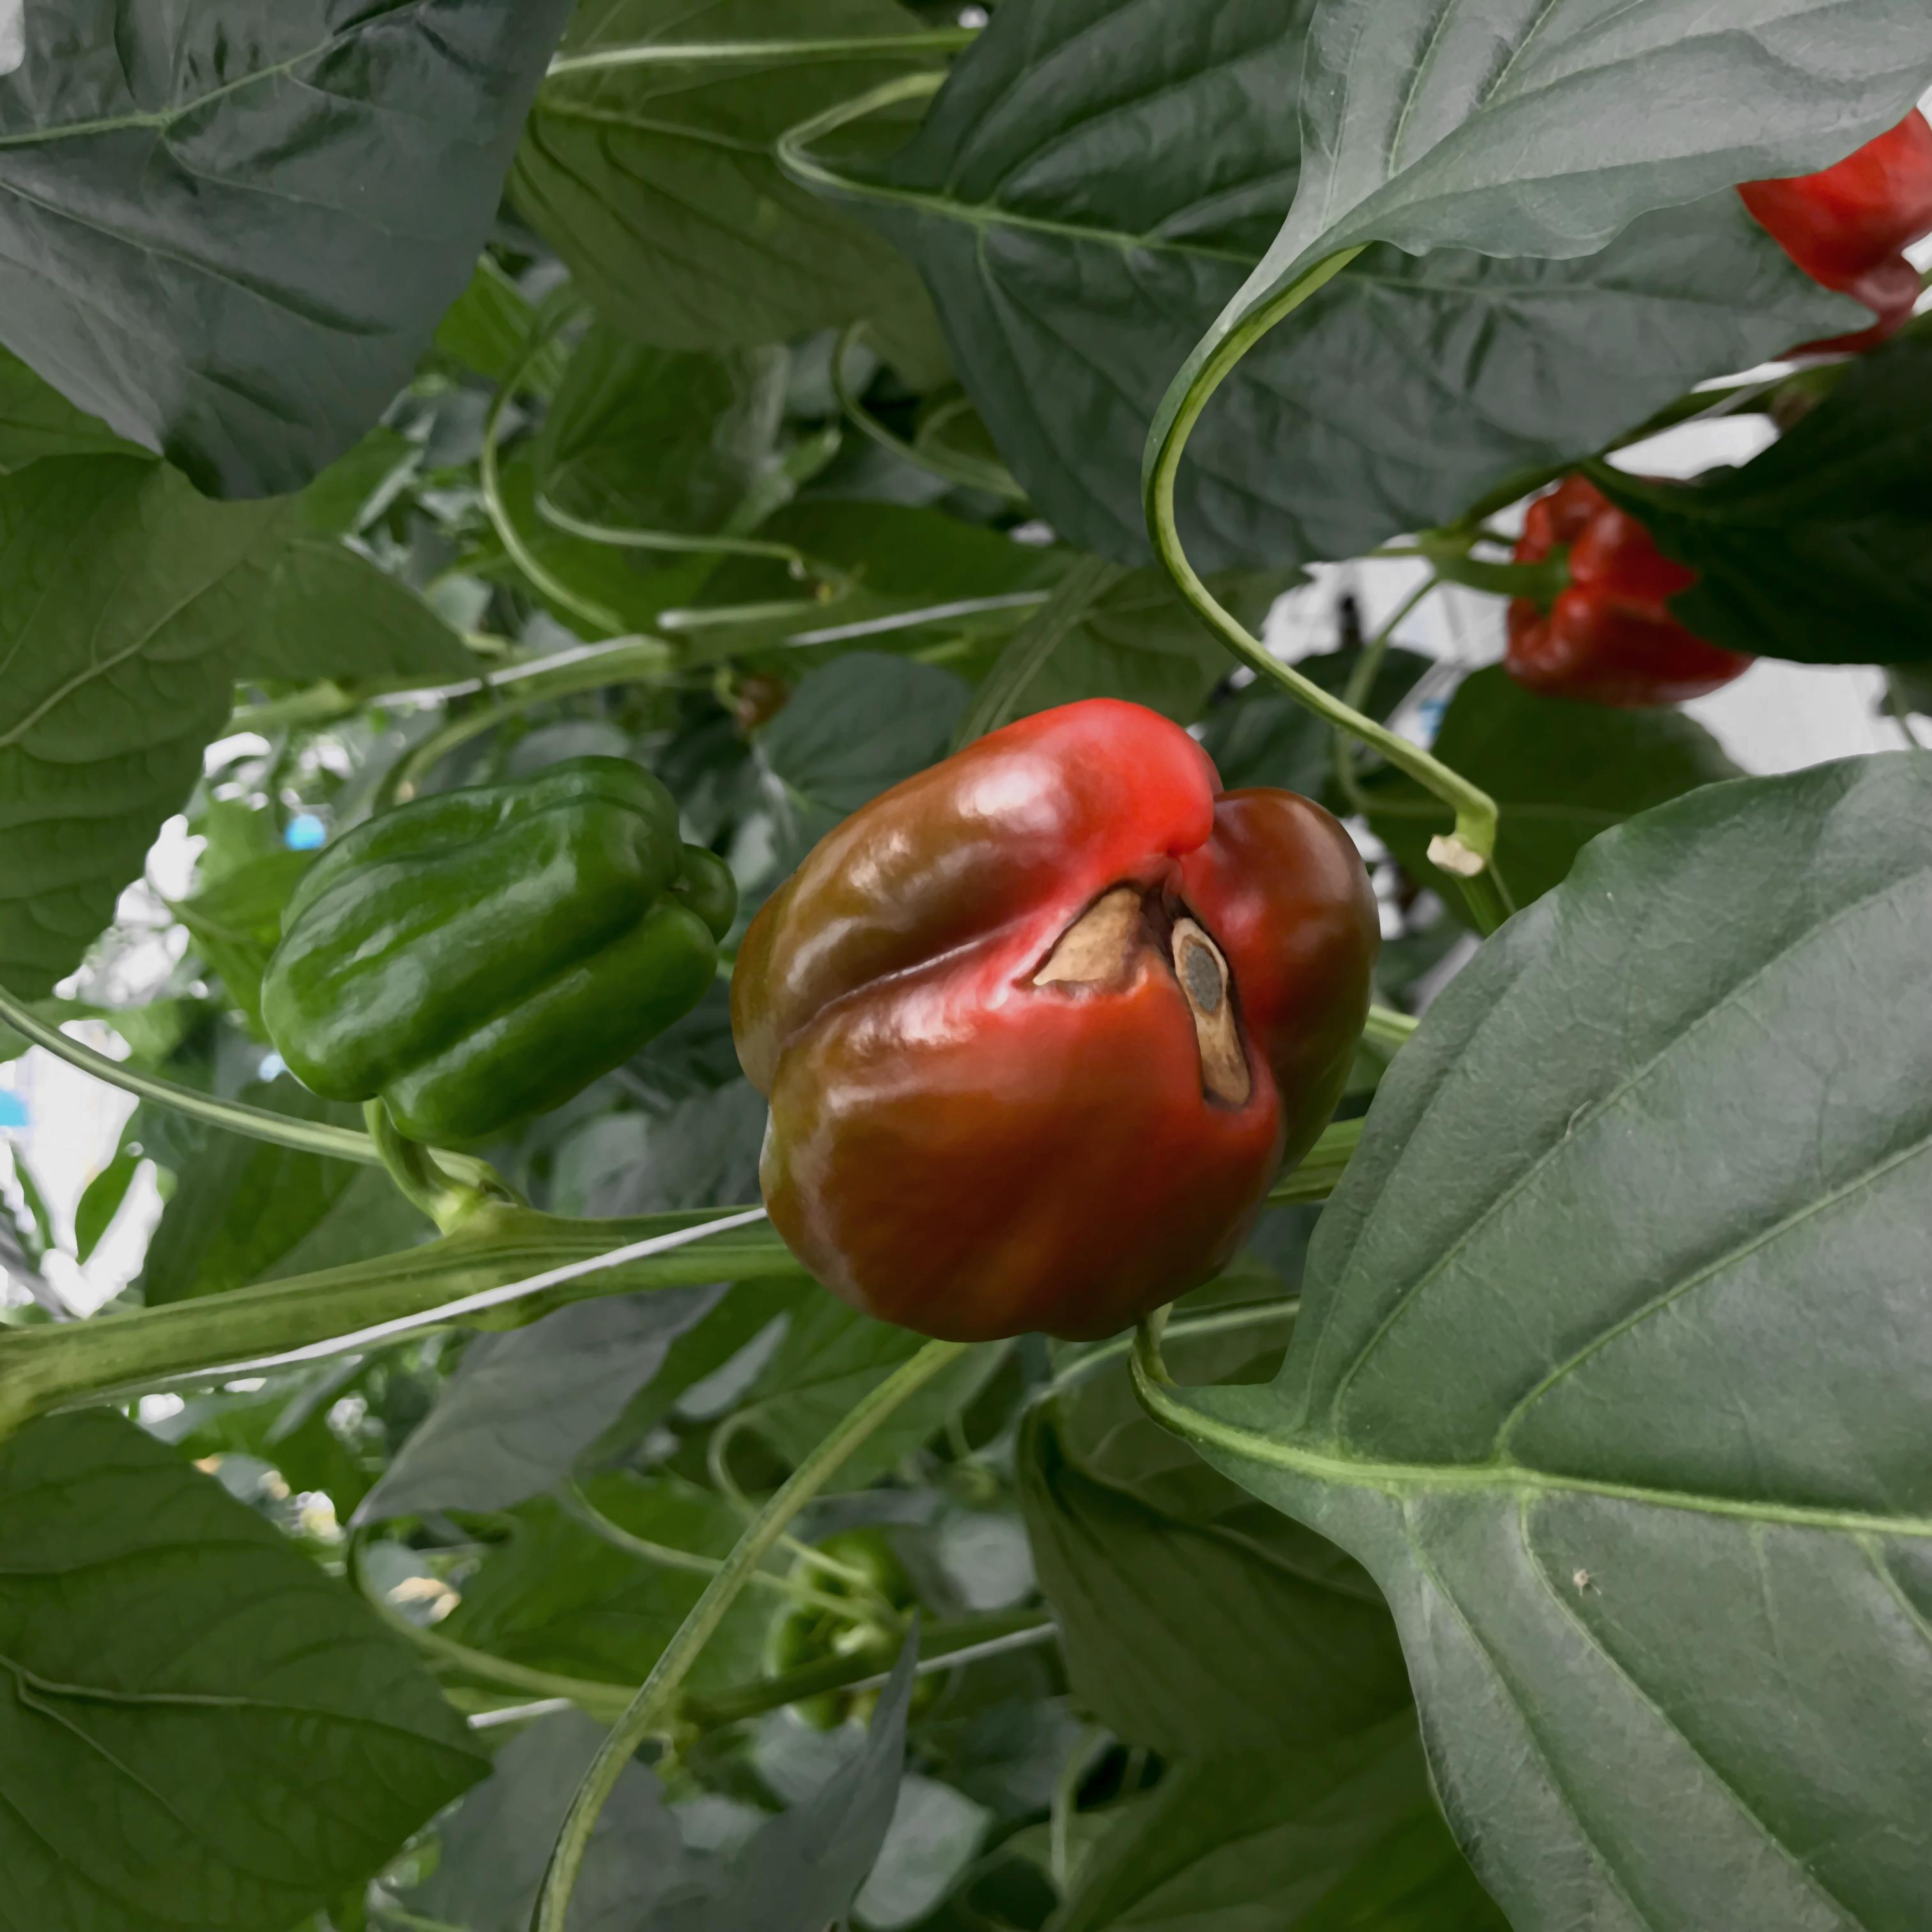blossom_end_rot: (1162, 892, 1286, 1145), (991, 853, 1145, 1030)
